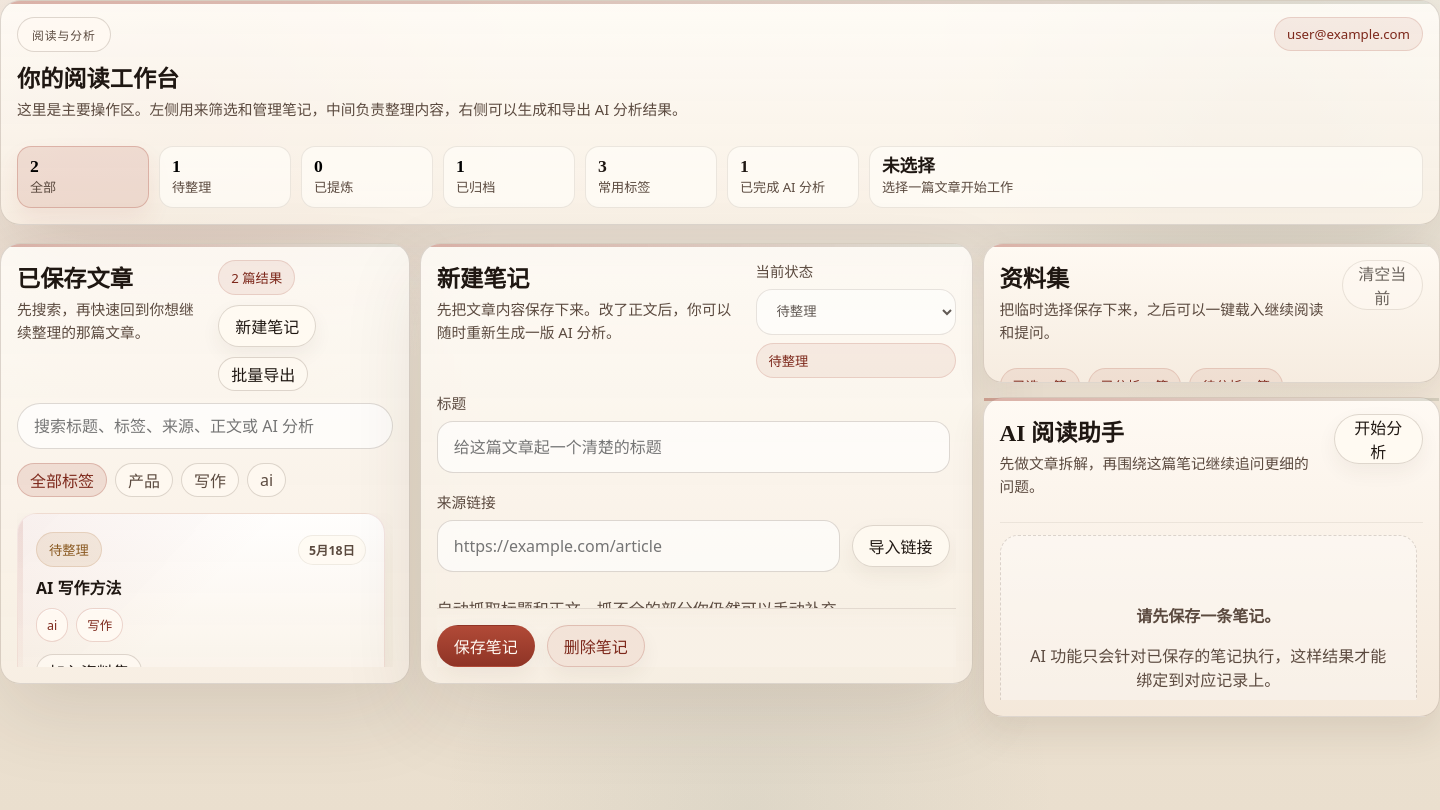
NotesWorkspace › filters notes by search text
The image size is (1440, 810).
Type "归档" into the search field with placeholder "搜索标题、标签、来源、正文或 AI 分析" at [205, 426], box [17, 403, 393, 449]
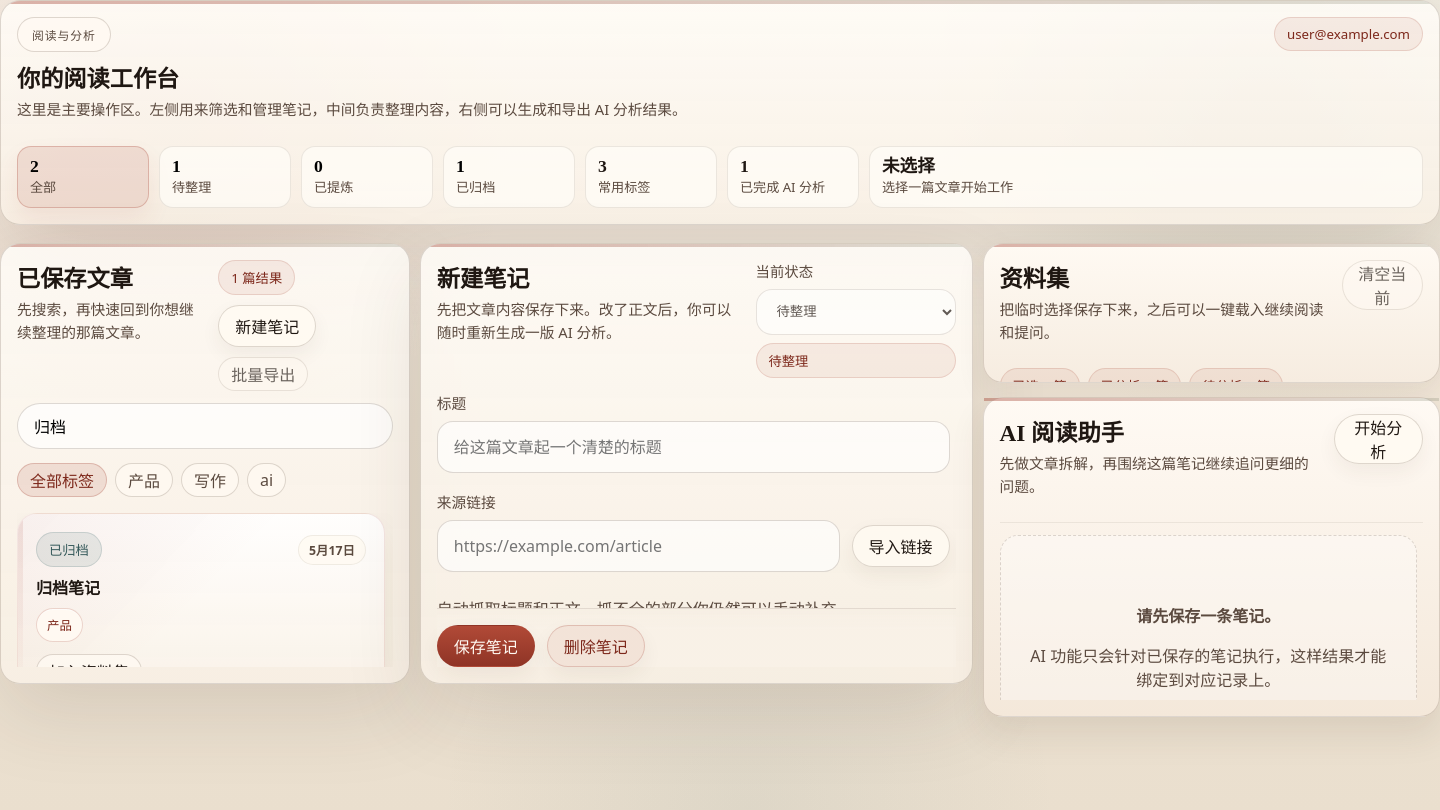
Expected: the text "1 篇结果" is shown, [218, 260, 295, 295]
